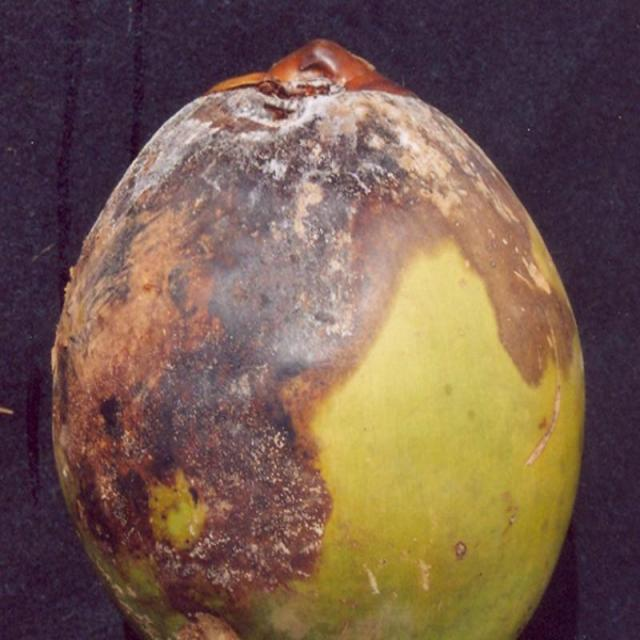damaged: (50, 41, 586, 639)
